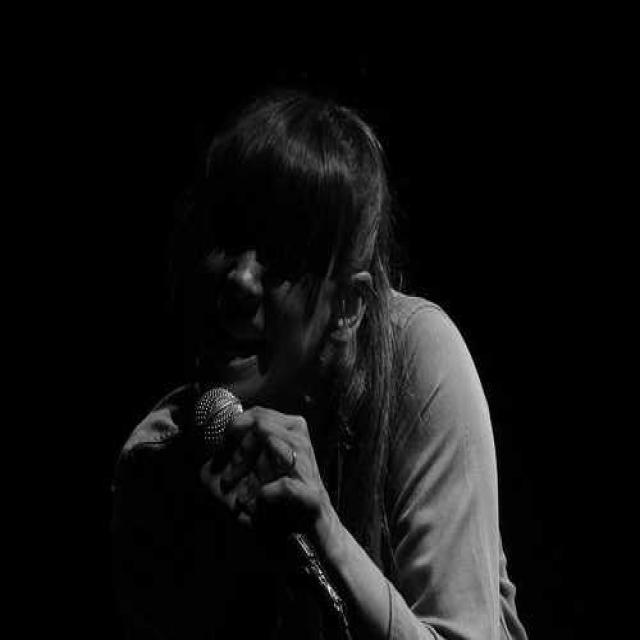microphone: (191, 383, 363, 636)
